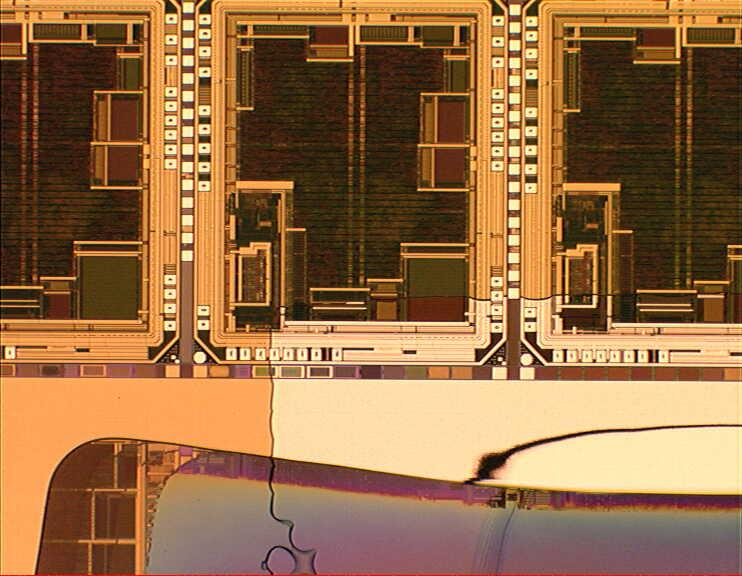COATING BAD: (34, 293, 742, 576)
